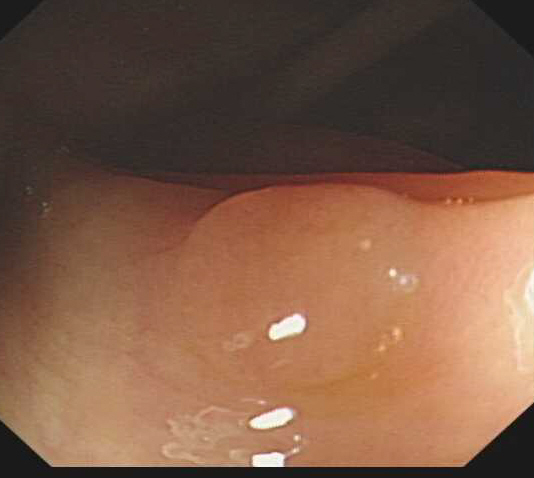adenoma: (170, 180, 427, 390)
